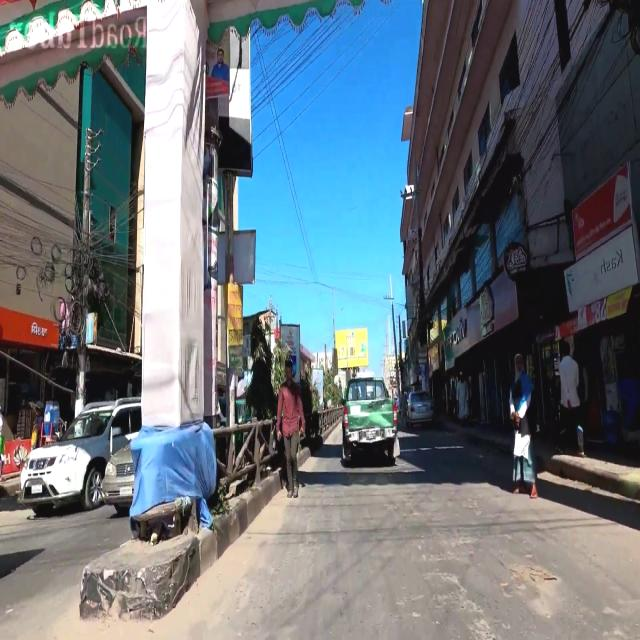white: (16, 394, 106, 508)
